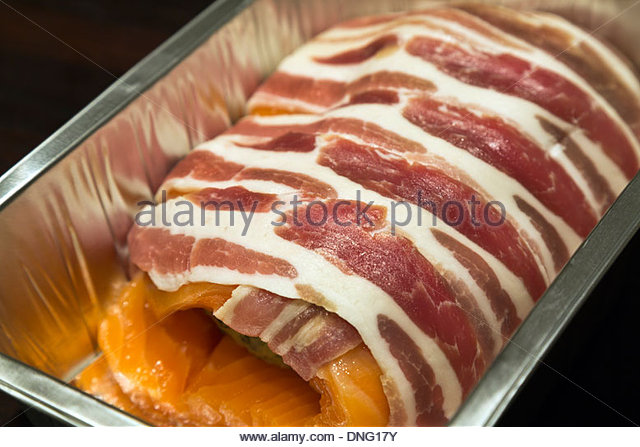bacon: (171, 155, 493, 360), (252, 11, 554, 200)
